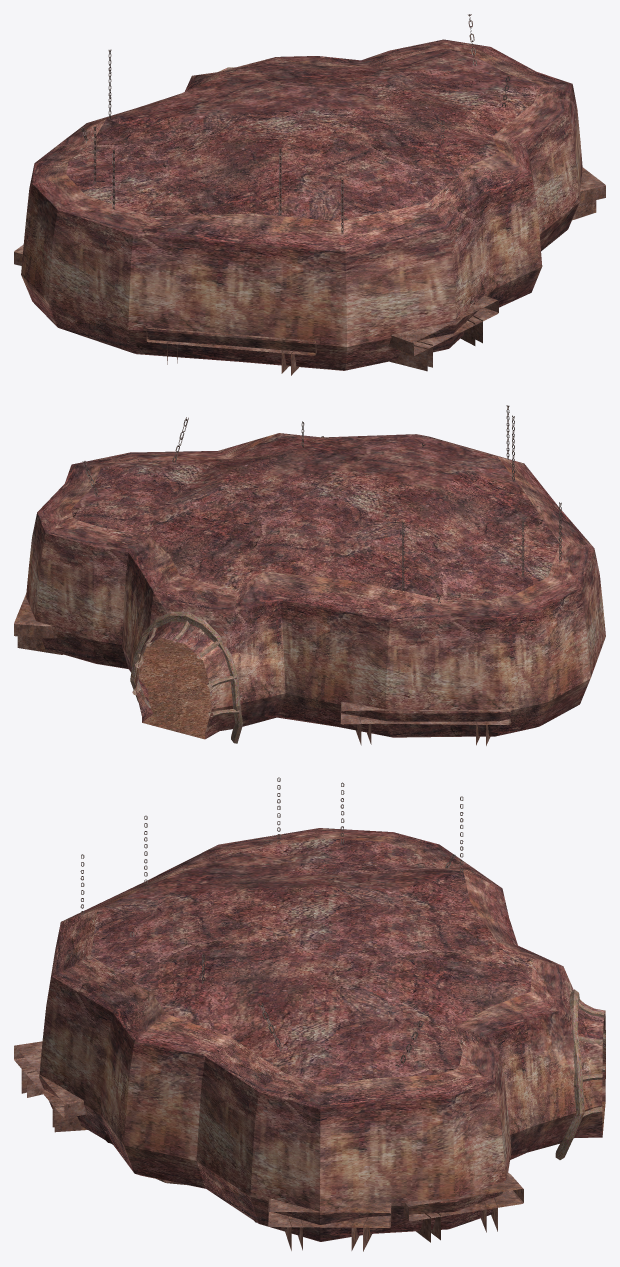
File: thm_dath_night_sister_stronghold_r11_mesh_r11.fbx
The picture shows the model from 3 angles, top to bottom: view 1: azimuth 30°, elevation 25°; view 2: azimuth 150°, elevation 25°; view 3: azimuth 270°, elevation 25°; orthographic projection. The views are drawn at different scales.
Parts seen in each view (by area): view 1: mesh_node; view 2: mesh_node; view 3: mesh_node.
Boxes of the visible parts, left/top/right/bottom form: mesh_node: left=14, top=14, right=605, bottom=375; mesh_node: left=14, top=405, right=605, bottom=745; mesh_node: left=14, top=777, right=605, bottom=1251.
Size of the model in its own units: 17.7 by 6.99 by 15.08.
